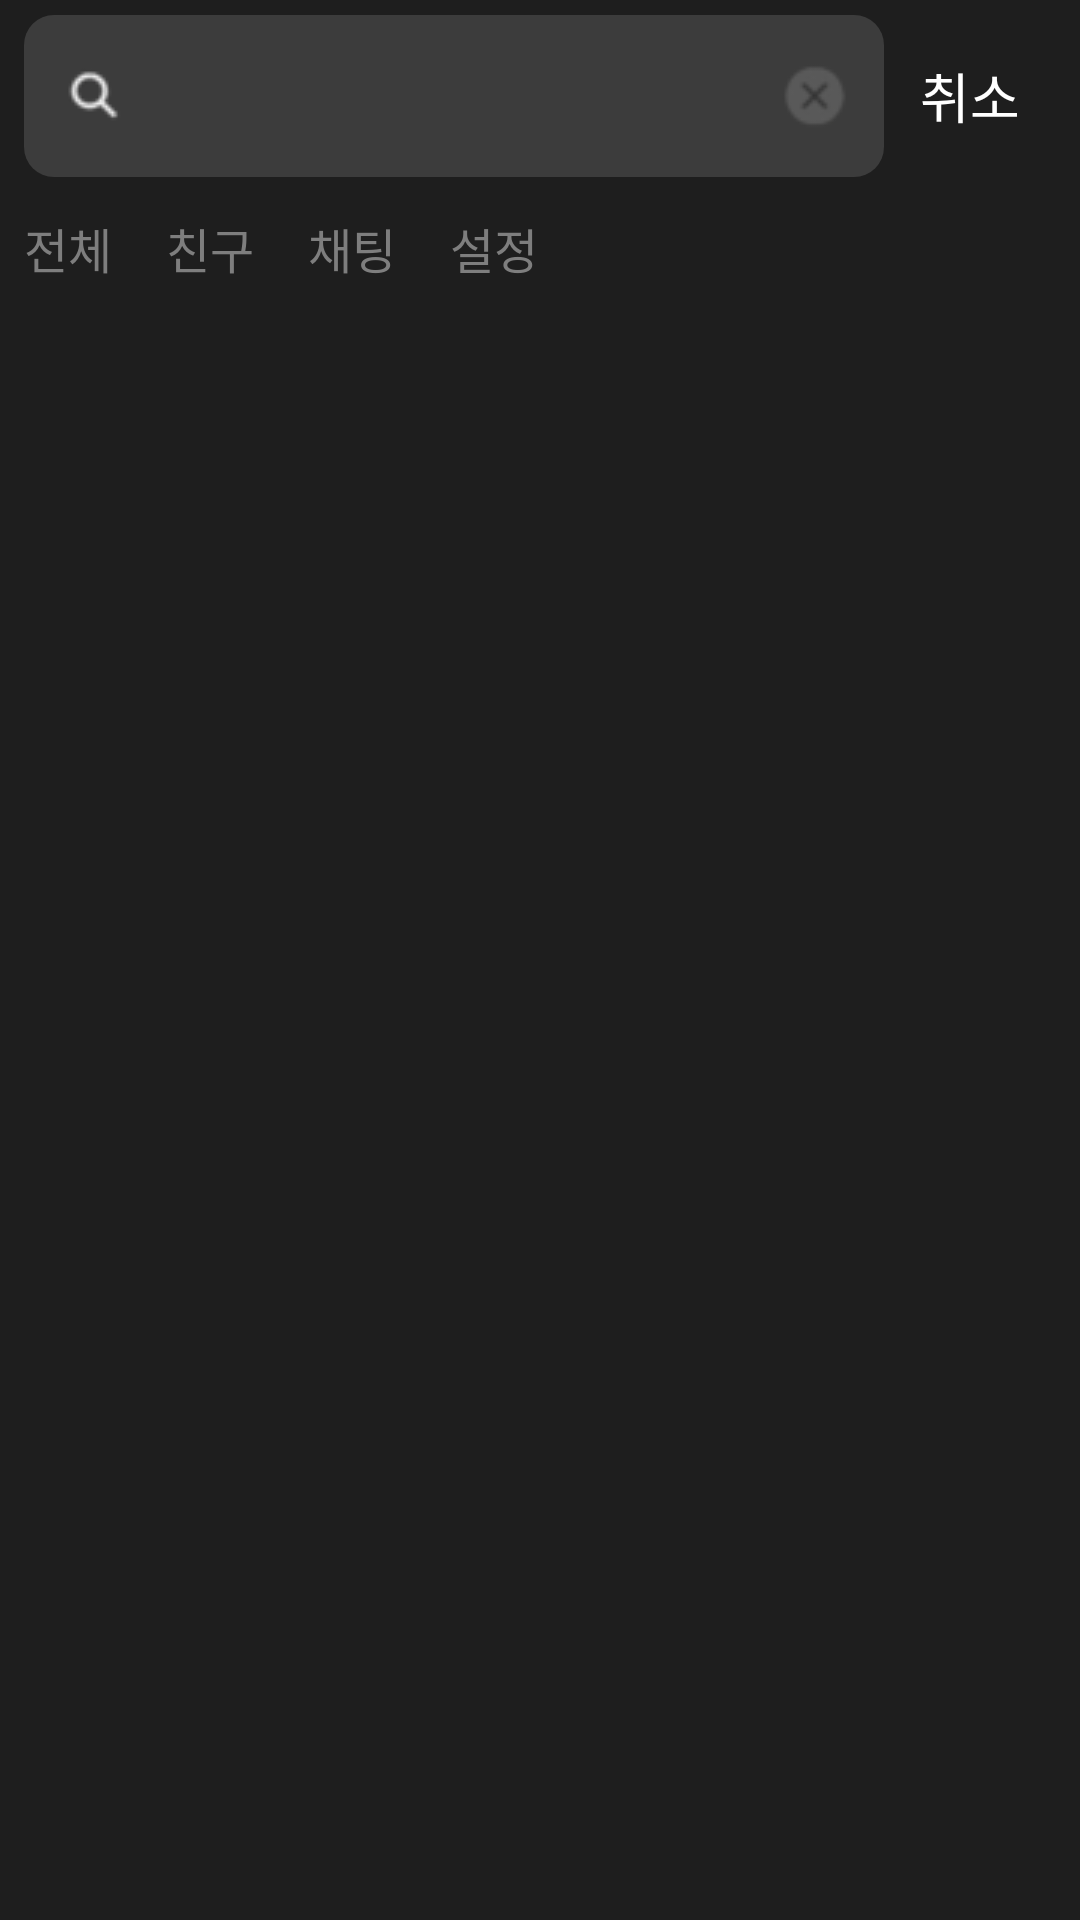

Point at icon controls on the screen. Image size 1080×1920, points as [x,y].
search clear: [815,96]
